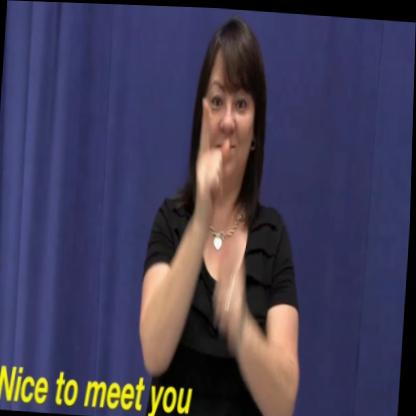NiceToMeetYou: (176, 90, 263, 329)
